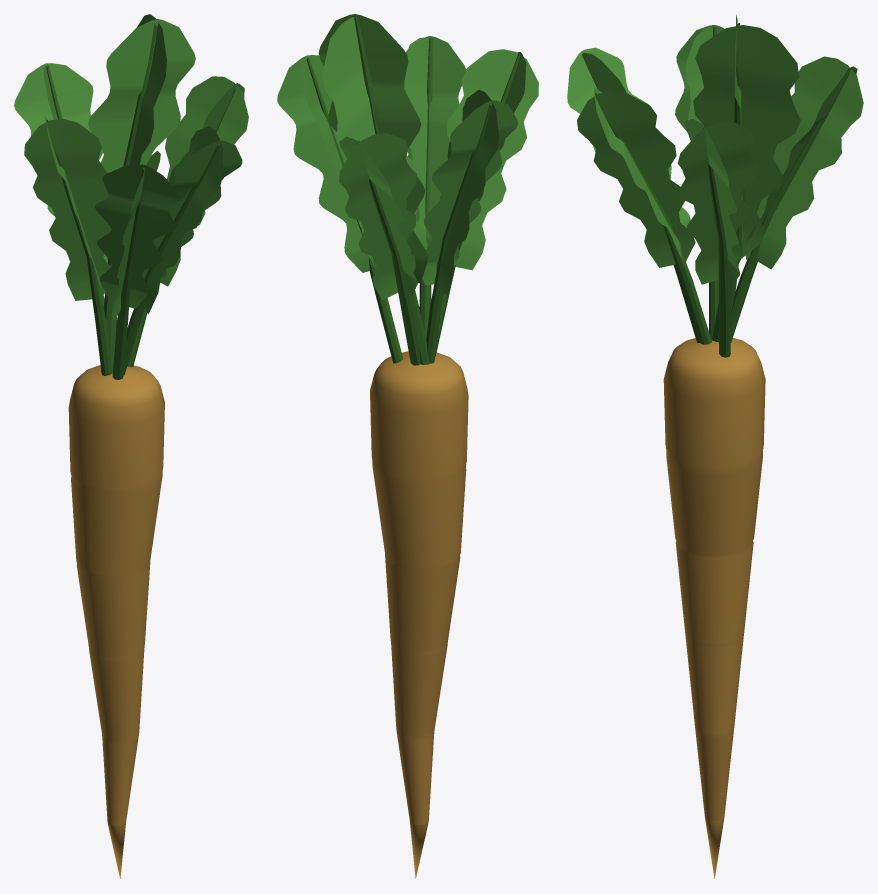
Rendered from Carrot.fbx.
The picture shows the model from 3 angles, left to right: view 1: azimuth 30°, elevation 25°; view 2: azimuth 150°, elevation 25°; view 3: azimuth 270°, elevation 25°; orthographic projection. The views are drawn at different scales.
Visible parts, largest first — view 1: CombinedCarrot; view 2: CombinedCarrot; view 3: CombinedCarrot.
Part boxes in pixels (x1,y1,x2,y2): CombinedCarrot: (14, 14, 248, 878); CombinedCarrot: (277, 14, 538, 878); CombinedCarrot: (567, 15, 863, 878).
Size of the model in its own units: 4.48 by 16.55 by 5.04.
